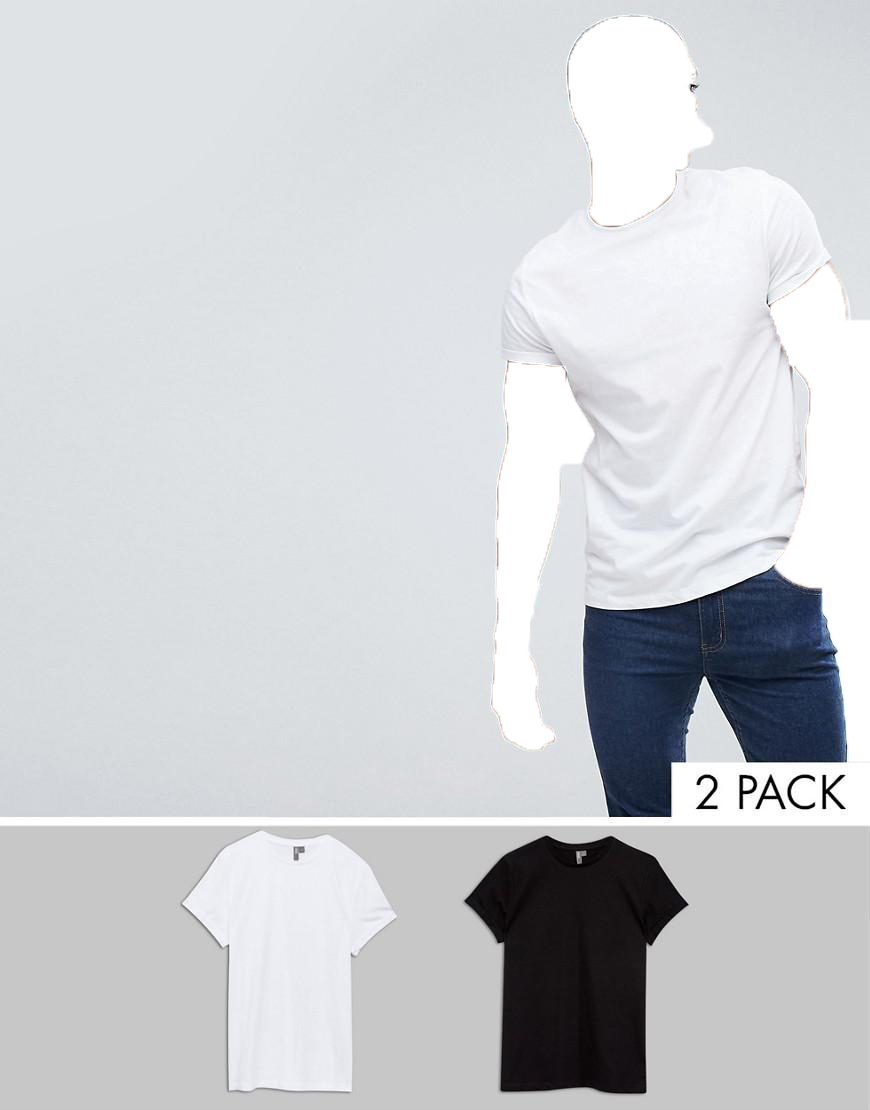teeshirt: (498, 164, 856, 610), (178, 830, 409, 1110), (462, 834, 695, 1110)
